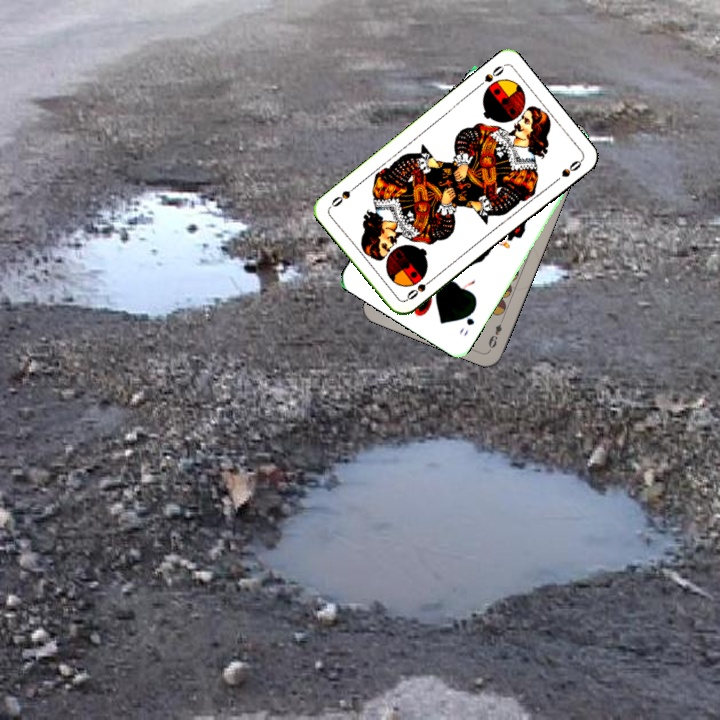E9: (484, 314, 506, 353)
GO: (455, 304, 478, 339)
SO: (473, 61, 507, 91), (402, 274, 437, 303)
